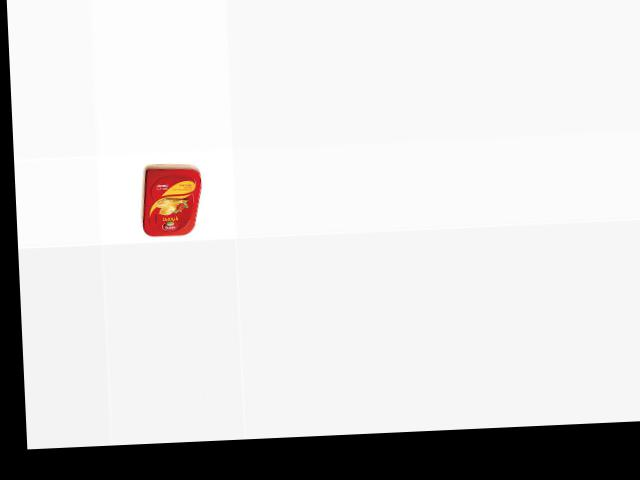cheese: (137, 162, 203, 241)
